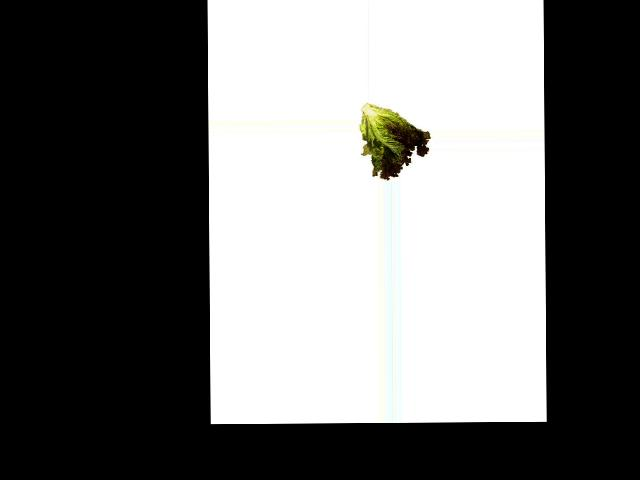lettuce: (360, 103, 429, 180)
